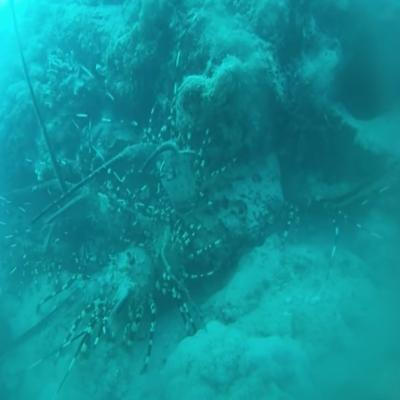lobster: (103, 242, 158, 330), (149, 138, 202, 206)
